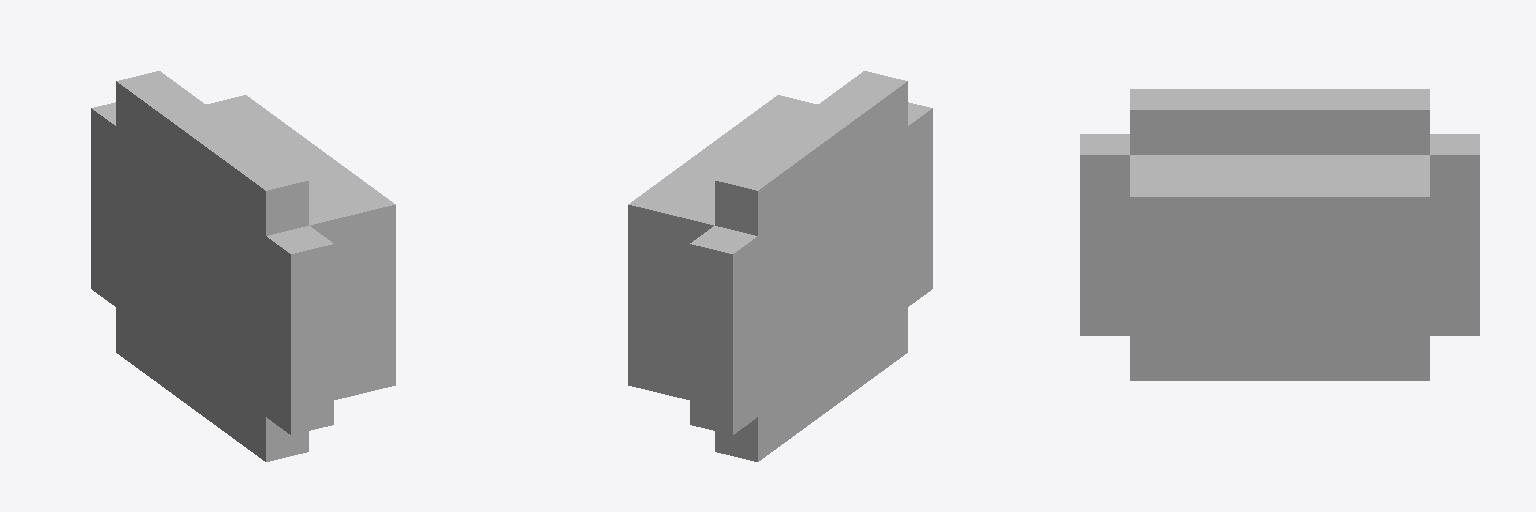
The model's file is Tutorial Map V1.0-4.obj.
3 renders of one model, left to right at view 1: azimuth 30°, elevation 25°; view 2: azimuth 150°, elevation 25°; view 3: azimuth 270°, elevation 25°, orthographic.
Visible parts, largest first — view 1: object 1; view 2: object 1; view 3: object 1.
Part boxes in pixels (left/top/right/bottom): object 1: left=91, top=71, right=395, bottom=461; object 1: left=628, top=71, right=932, bottom=461; object 1: left=1080, top=89, right=1479, bottom=380.
Size of the model in its own units: 0.3 by 0.6 by 0.8.